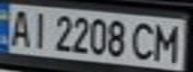0: (87, 16, 109, 56)
2: (48, 11, 75, 53), (69, 13, 90, 55)
8: (106, 17, 130, 59)
A: (6, 7, 36, 47)
C: (127, 19, 160, 62)
I: (27, 9, 51, 50)
M: (151, 20, 187, 64)
